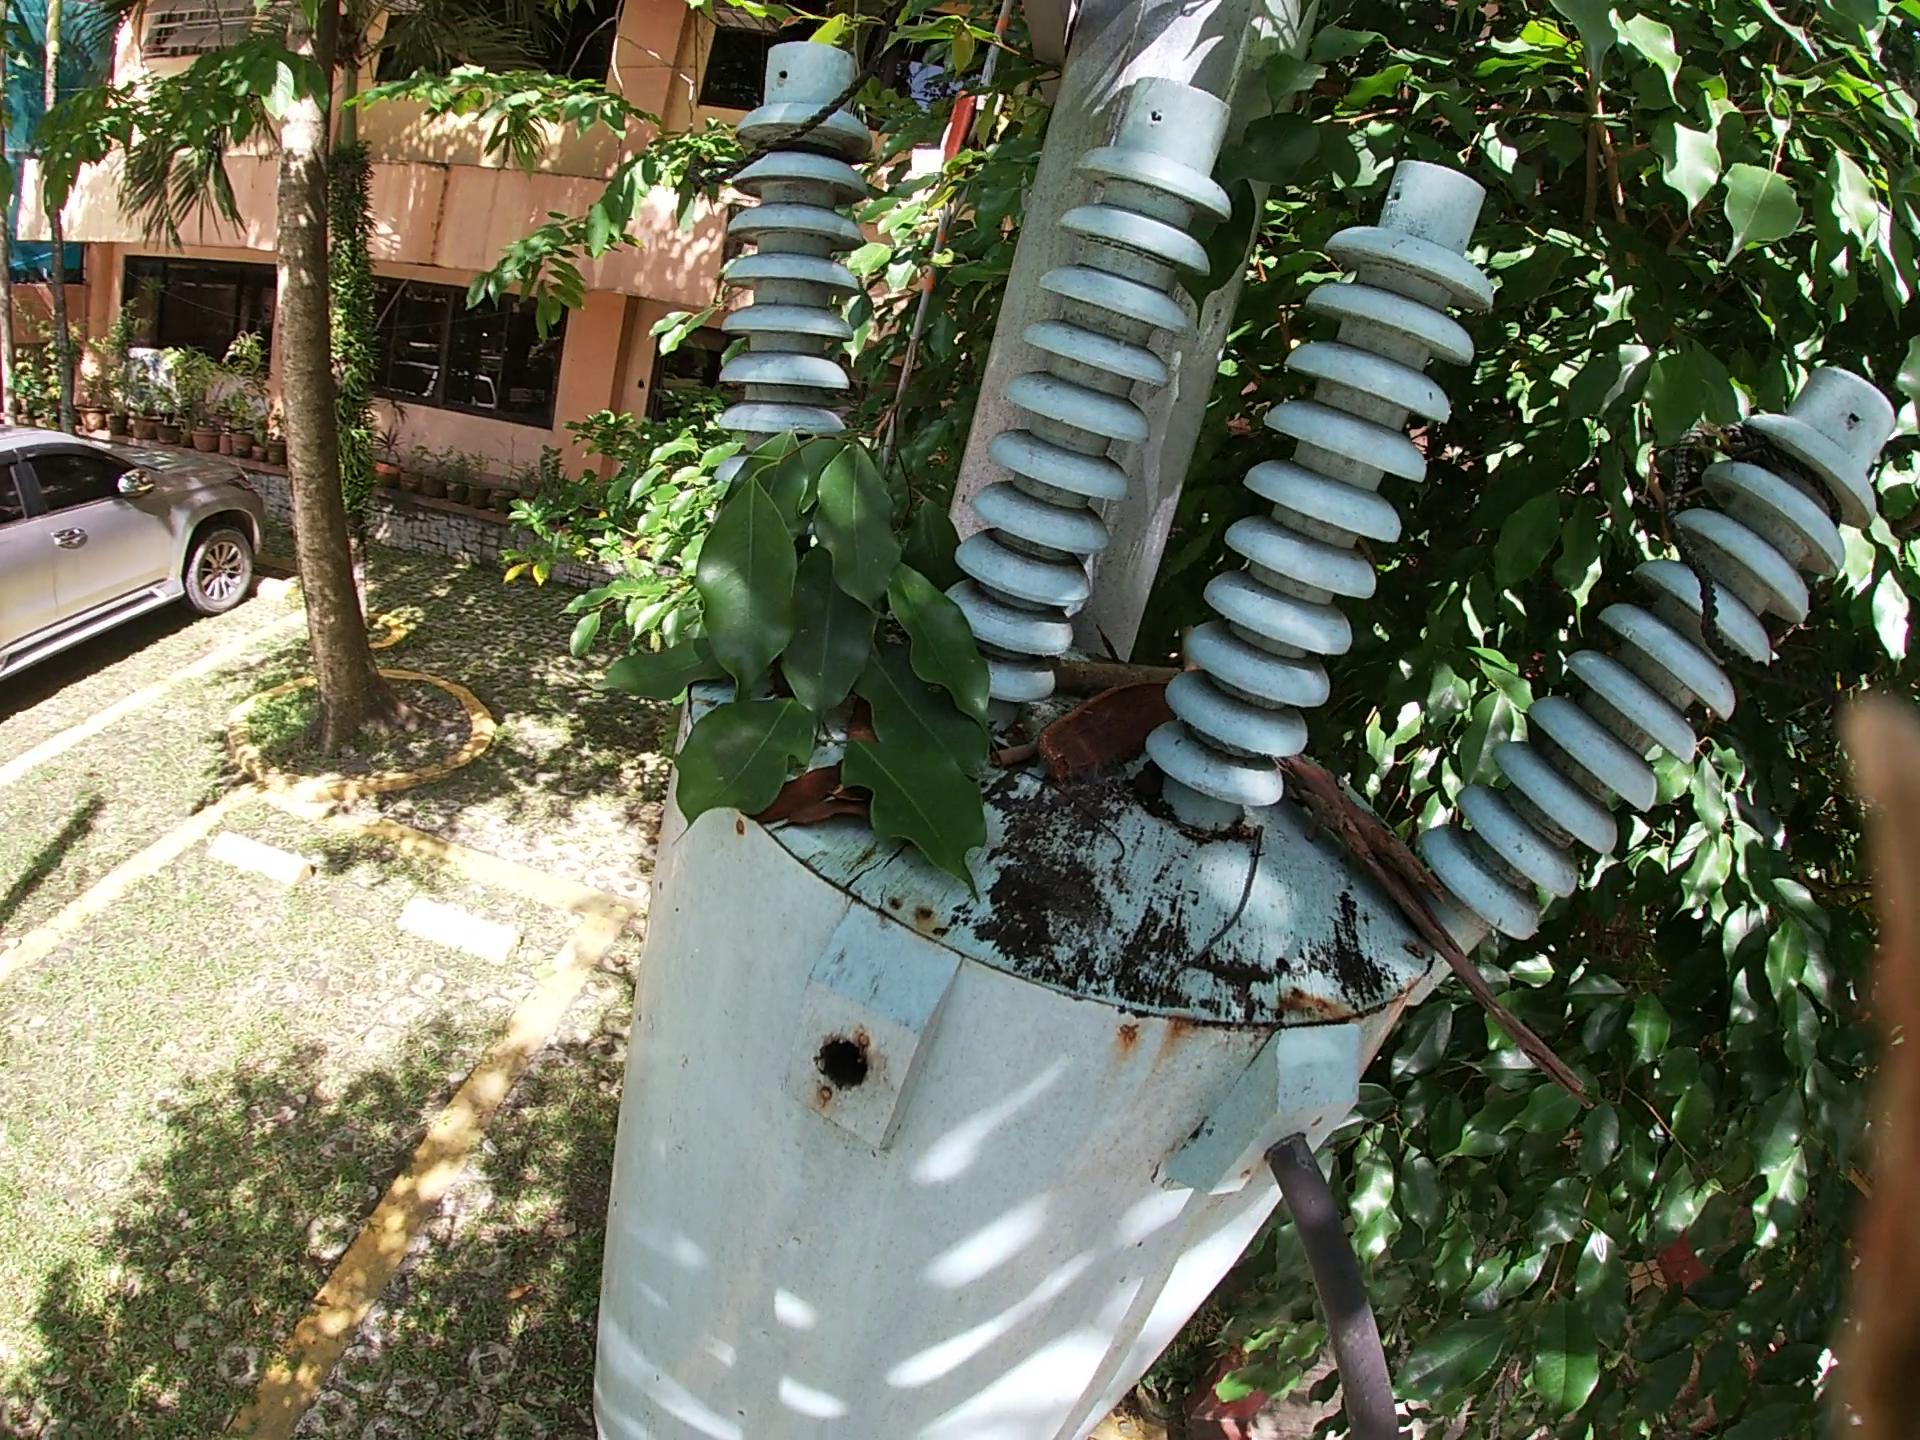branch with leaves: (562, 380, 989, 906)
mahogany fruit: (1030, 682, 1185, 785), (750, 761, 877, 846), (841, 706, 877, 743)
tree branch: (1279, 725, 1593, 1109), (1187, 809, 1261, 974), (1027, 764, 1134, 877), (1048, 647, 1191, 684), (1172, 613, 1197, 690), (996, 740, 1030, 768)
